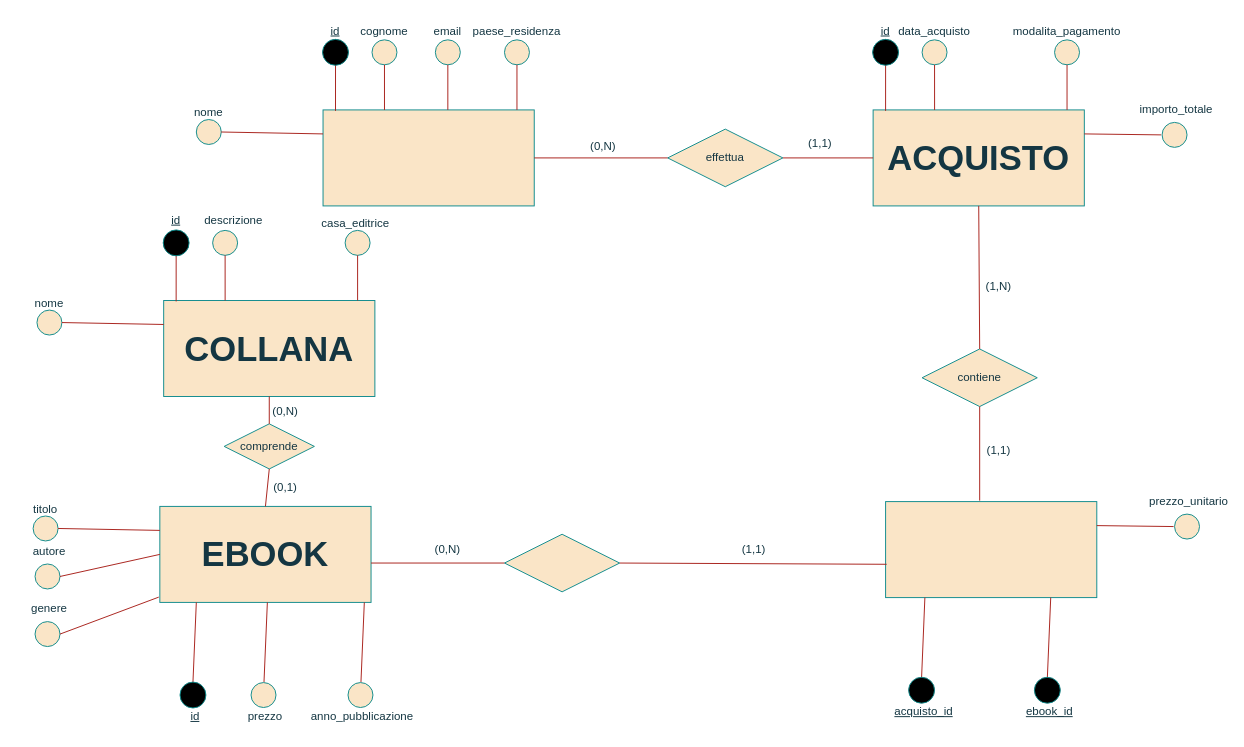
The diagram is 1244 pixels wide and 747 high, and some of its shapes have lost their labels. The box of each missing label's shape, as (x1, y1, x2, y2) in pixels:
DETTAGLIO_ACQUISTO: (885, 501, 1097, 598)
riguarda: (504, 533, 620, 592)
UTENTE: (322, 109, 534, 206)
